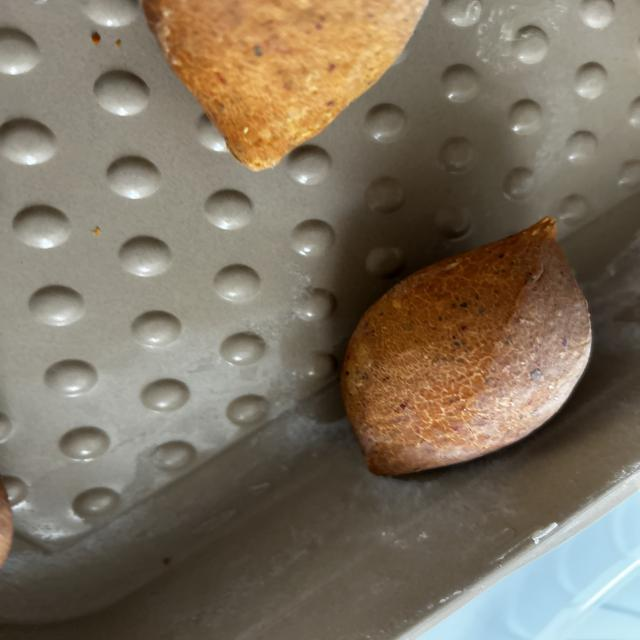kobi: (339, 215, 593, 477), (141, 0, 429, 172)
